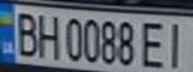0: (60, 14, 84, 63), (81, 15, 100, 64)
8: (115, 17, 142, 68), (100, 17, 118, 66)
B: (9, 8, 42, 57)
E: (136, 18, 172, 70)
H: (33, 10, 63, 60)
I: (160, 18, 193, 70)
